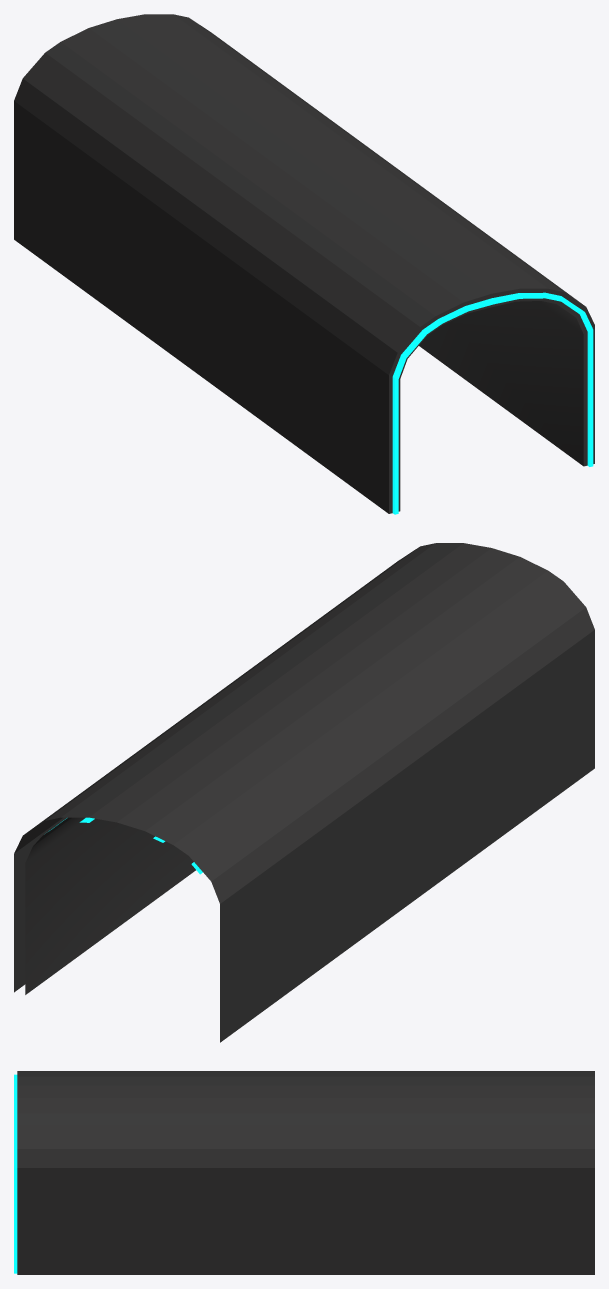
Rendered from tunnel2.fbx.
The picture shows the model from 3 angles, top to bottom: view 1: azimuth 30°, elevation 25°; view 2: azimuth 150°, elevation 25°; view 3: azimuth 270°, elevation 25°; orthographic projection. The views are drawn at different scales.
Parts seen in each view (by area): view 1: Cylinder; view 2: Cylinder; view 3: Cylinder.
Boxes of the visible parts, x1,y1,x2,y2 form: Cylinder: (14, 14, 594, 514); Cylinder: (14, 543, 594, 1042); Cylinder: (14, 1071, 594, 1274).
Size of the model in its own units: 20801 by 18839 by 65948.
